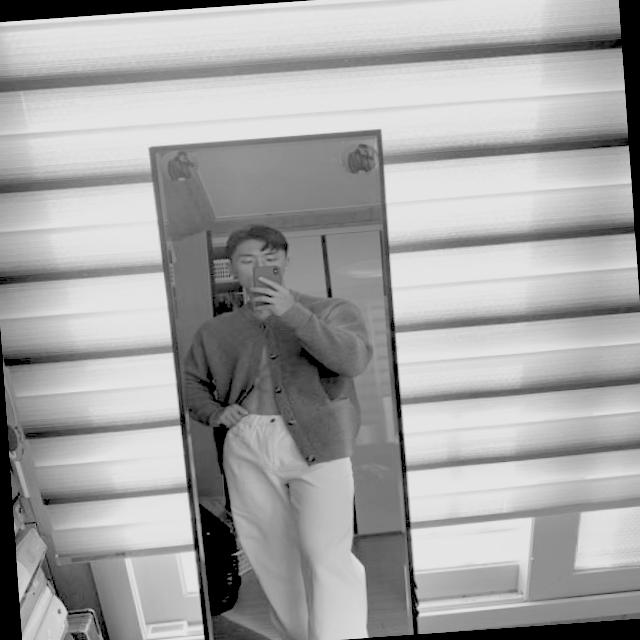cardigan: (176, 289, 384, 475)
denimpants: (216, 404, 369, 640)
